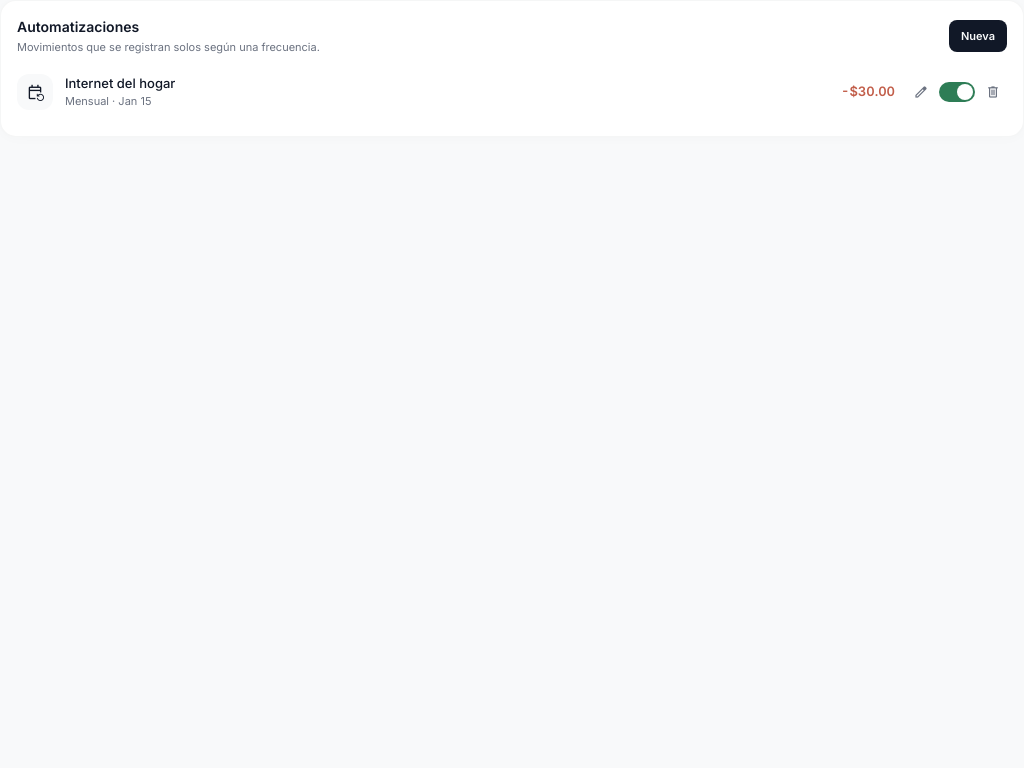
Test: RecurringSection › elimina una automatización tras confirmar
The width and height of the screenshot is (1024, 768).
Expected: the text "Internet del hogar" is shown, left=65, top=74, right=175, bottom=90
Click the button named "Eliminar Internet del hogar". click: [993, 92]
box: left=979, top=78, right=1007, bottom=106
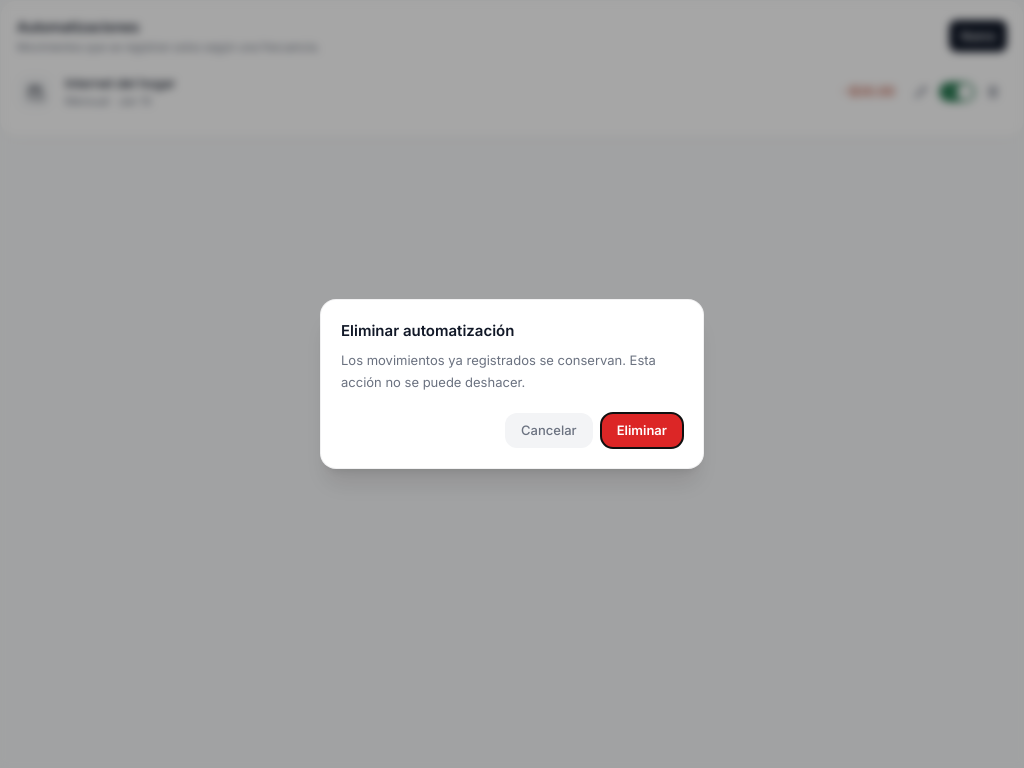
Click the button "Eliminar". click: [642, 430]
box: left=601, top=413, right=683, bottom=448
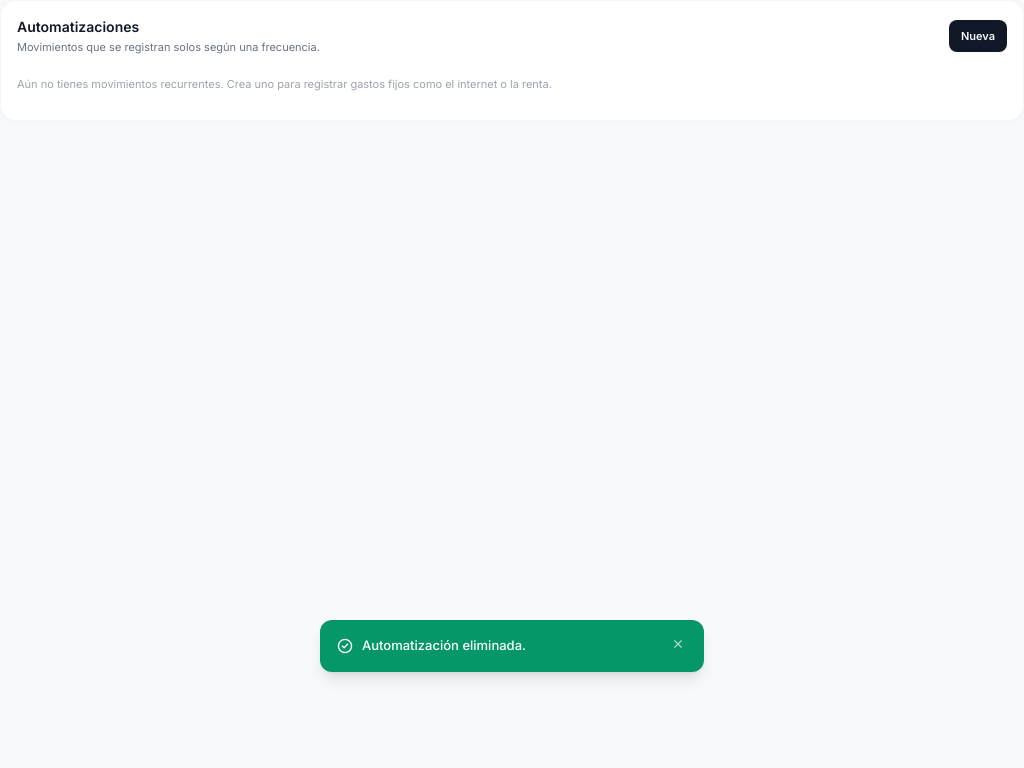
Now the text "Internet del hogar" is gone
